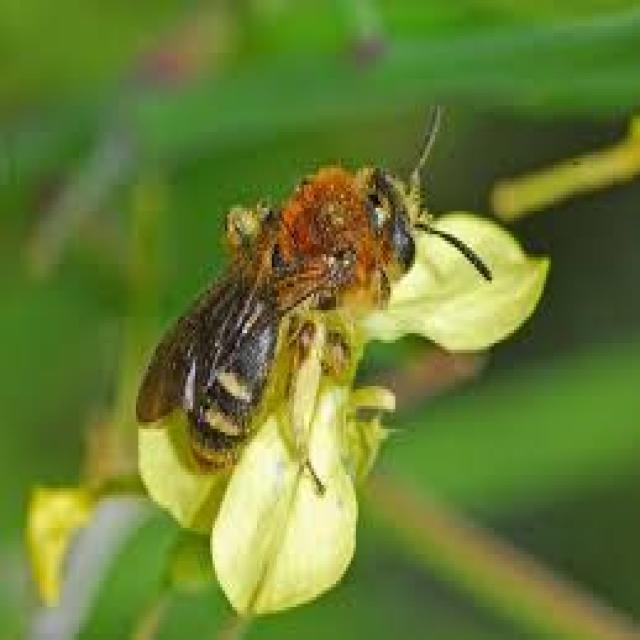Bees: (139, 104, 494, 490)
